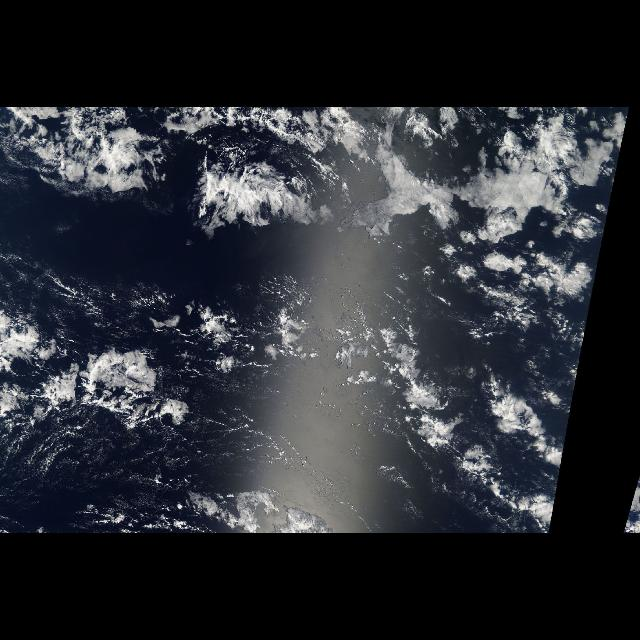Sugar: (1, 400, 300, 522)
